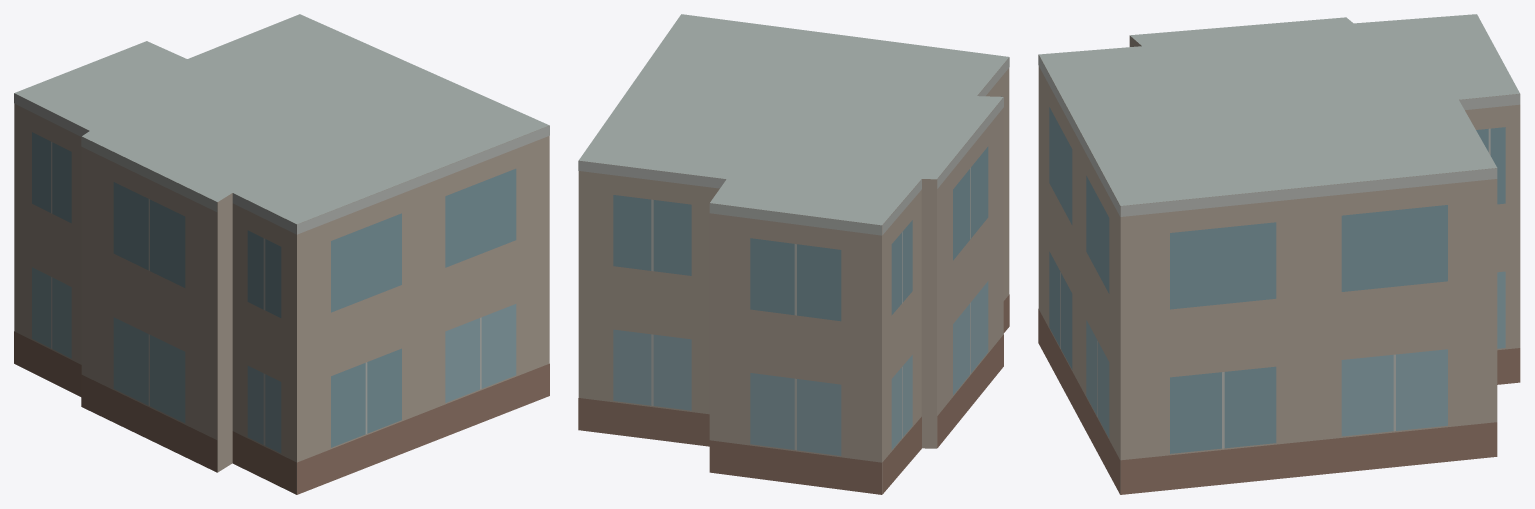
File: survey-upis-32754136.glb
3 renders of one model, left to right at view 1: azimuth 30°, elevation 25°; view 2: azimuth 150°, elevation 25°; view 3: azimuth 270°, elevation 25°, orthographic. The views are drawn at different scales.
Visible parts, largest first — view 1: survey-upis-32754136.tmp; view 2: survey-upis-32754136.tmp; view 3: survey-upis-32754136.tmp.
Part boxes in pixels (left/top/right/bottom): survey-upis-32754136.tmp: left=14, top=14, right=549, bottom=494; survey-upis-32754136.tmp: left=578, top=14, right=1009, bottom=494; survey-upis-32754136.tmp: left=1038, top=14, right=1520, bottom=494.
Size of the model in its own units: 9.14 by 6.4 by 9.68.
